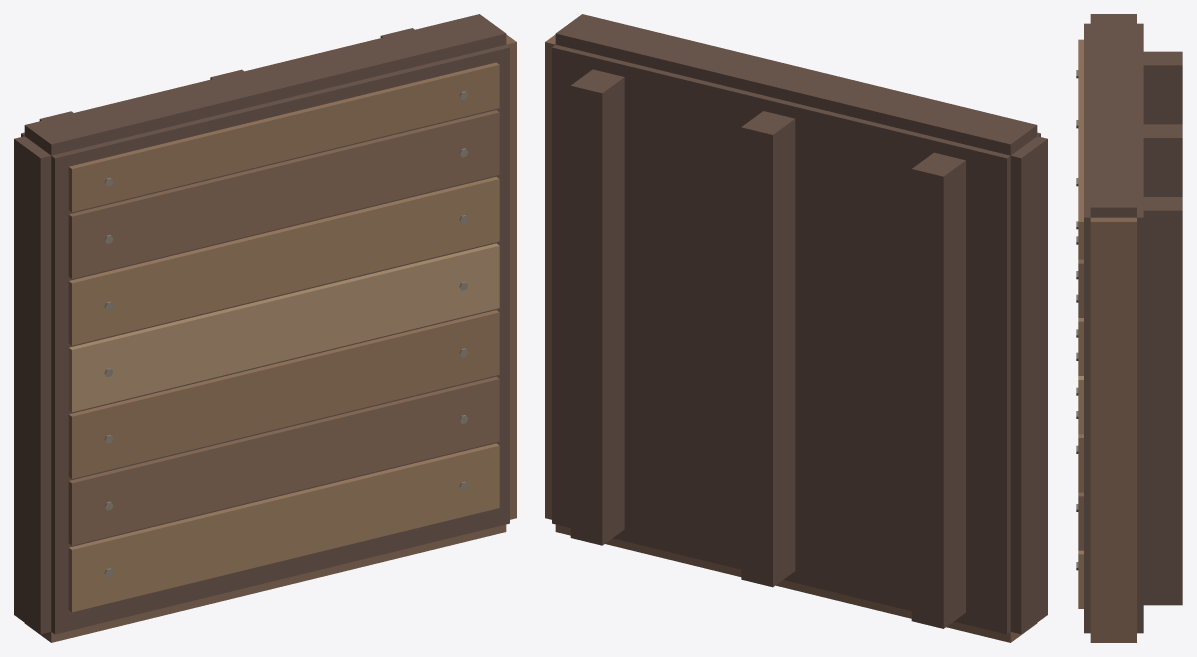
The model's file is small_platform_extension_2x2.glb.
3 renders of one model, left to right at view 1: azimuth 30°, elevation 25°; view 2: azimuth 150°, elevation 25°; view 3: azimuth 270°, elevation 25°, orthographic. The views are drawn at different scales.
Parts seen in each view (by area): view 1: small_platform_extension_2x2_000, small_platform_extension_2x2_007, small_platform_extension_2x2_001, small_platform_extension_2x2_004, small_platform_extension_2x2_010, small_platform_extension_2x2_016, small_platform_extension_2x2_013, small_platform_extension_2x2_019, small_platform_extension_2x2_024, small_platform_extension_2x2_025, small_platform_extension_2x2_022, small_platform_extension_2x2_023; view 2: small_platform_extension_2x2_000, small_platform_extension_2x2_028, small_platform_extension_2x2_026, small_platform_extension_2x2_027, small_platform_extension_2x2_024, small_platform_extension_2x2_025, small_platform_extension_2x2_023, small_platform_extension_2x2_022; view 3: small_platform_extension_2x2_023, small_platform_extension_2x2_028, small_platform_extension_2x2_025, small_platform_extension_2x2_000, small_platform_extension_2x2_026, small_platform_extension_2x2_027, small_platform_extension_2x2_019, small_platform_extension_2x2_001, small_platform_extension_2x2_004, small_platform_extension_2x2_007, small_platform_extension_2x2_010, small_platform_extension_2x2_016 (+2 smaller).
Boxes of the visible parts, left/top/right/bottom form: small_platform_extension_2x2_000: left=21, top=45, right=509, bottom=634; small_platform_extension_2x2_007: left=68, top=310, right=499, bottom=478; small_platform_extension_2x2_001: left=68, top=443, right=499, bottom=612; small_platform_extension_2x2_004: left=68, top=376, right=499, bottom=545; small_platform_extension_2x2_010: left=68, top=243, right=499, bottom=412; small_platform_extension_2x2_016: left=68, top=110, right=499, bottom=278; small_platform_extension_2x2_013: left=68, top=176, right=499, bottom=345; small_platform_extension_2x2_019: left=68, top=62, right=499, bottom=212; small_platform_extension_2x2_024: left=14, top=136, right=51, bottom=634; small_platform_extension_2x2_025: left=24, top=14, right=506, bottom=155; small_platform_extension_2x2_022: left=24, top=524, right=506, bottom=642; small_platform_extension_2x2_023: left=506, top=34, right=516, bottom=519; small_platform_extension_2x2_000: left=552, top=45, right=1040, bottom=634; small_platform_extension_2x2_028: left=570, top=69, right=624, bottom=545; small_platform_extension_2x2_026: left=911, top=152, right=965, bottom=628; small_platform_extension_2x2_027: left=741, top=111, right=795, bottom=587; small_platform_extension_2x2_024: left=1010, top=136, right=1047, bottom=634; small_platform_extension_2x2_025: left=555, top=14, right=1037, bottom=155; small_platform_extension_2x2_023: left=545, top=34, right=555, bottom=519; small_platform_extension_2x2_022: left=555, top=524, right=1037, bottom=642; small_platform_extension_2x2_023: left=1090, top=217, right=1136, bottom=637; small_platform_extension_2x2_028: left=1143, top=197, right=1182, bottom=605; small_platform_extension_2x2_025: left=1090, top=14, right=1136, bottom=217; small_platform_extension_2x2_000: left=1084, top=23, right=1143, bottom=633; small_platform_extension_2x2_026: left=1143, top=51, right=1182, bottom=124; small_platform_extension_2x2_027: left=1143, top=124, right=1182, bottom=196; small_platform_extension_2x2_019: left=1078, top=39, right=1083, bottom=259; small_platform_extension_2x2_001: left=1078, top=550, right=1083, bottom=608; small_platform_extension_2x2_004: left=1078, top=492, right=1083, bottom=550; small_platform_extension_2x2_007: left=1078, top=434, right=1083, bottom=492; small_platform_extension_2x2_010: left=1078, top=376, right=1083, bottom=434; small_platform_extension_2x2_016: left=1078, top=259, right=1083, bottom=317.
Size of the model in its own units: 2.09 by 2.09 by 0.463.
